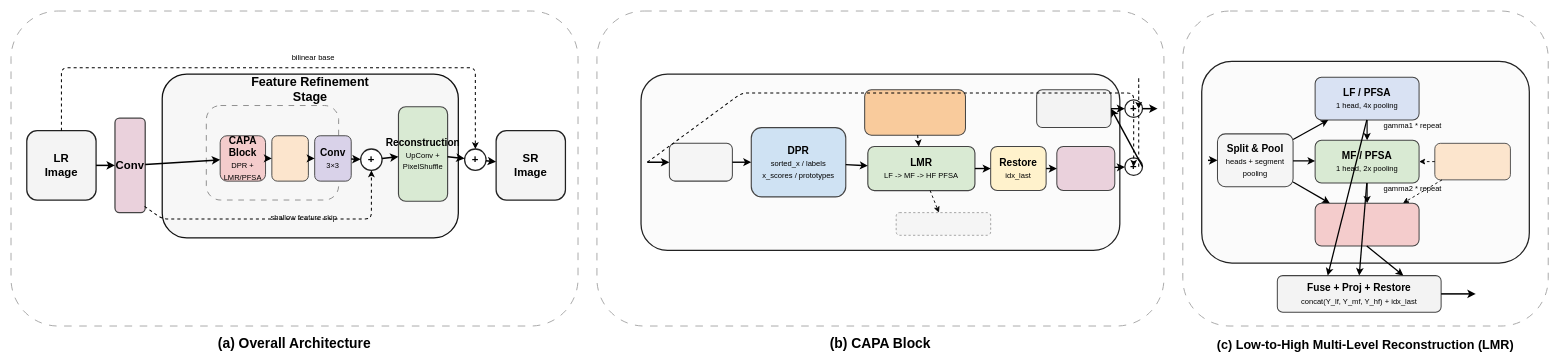
Some shapes in this 1560 by 364 pixel diagram are drawn without their labels. The shapes that lost their labels are listed below. From the top down, each one's box as (x1, y1, x2, y2) in pixels, then its label:
(864, 89, 966, 135): Prototype Weak Branch prototypes -> global k / v
(1036, 89, 1111, 128): ConvFFN
(206, 105, 339, 200): Refinement Unit × 8
(271, 135, 309, 181): LRSA
(669, 143, 733, 181): LayerNorm
(1056, 146, 1115, 191): Conv1x1
(1434, 143, 1511, 180): Prototype Branch weak global prior
(895, 212, 991, 235): attn_state {lf, mf, hf}
(1314, 202, 1419, 246): HF / PFSA 2 heads, 1x tokens
